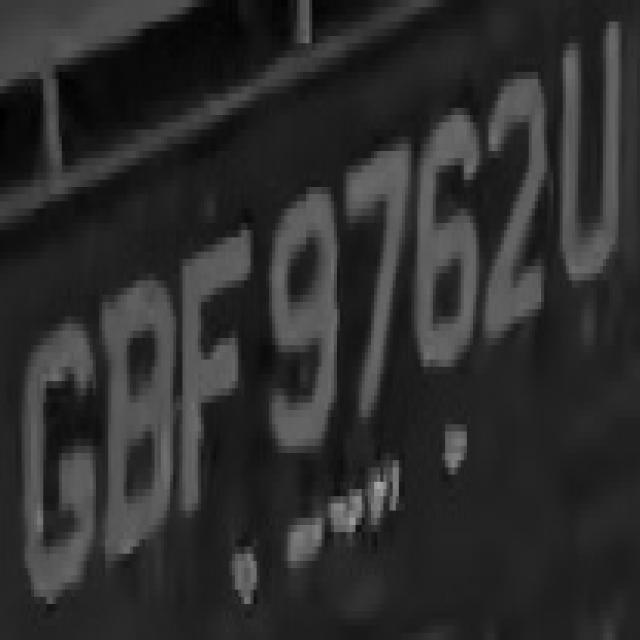2: (470, 72, 553, 359)
6: (414, 94, 482, 402)
7: (343, 130, 414, 438)
9: (276, 172, 350, 468)
B: (96, 266, 164, 590)
F: (167, 216, 247, 546)
G: (9, 309, 93, 626)
U: (560, 14, 637, 288)
